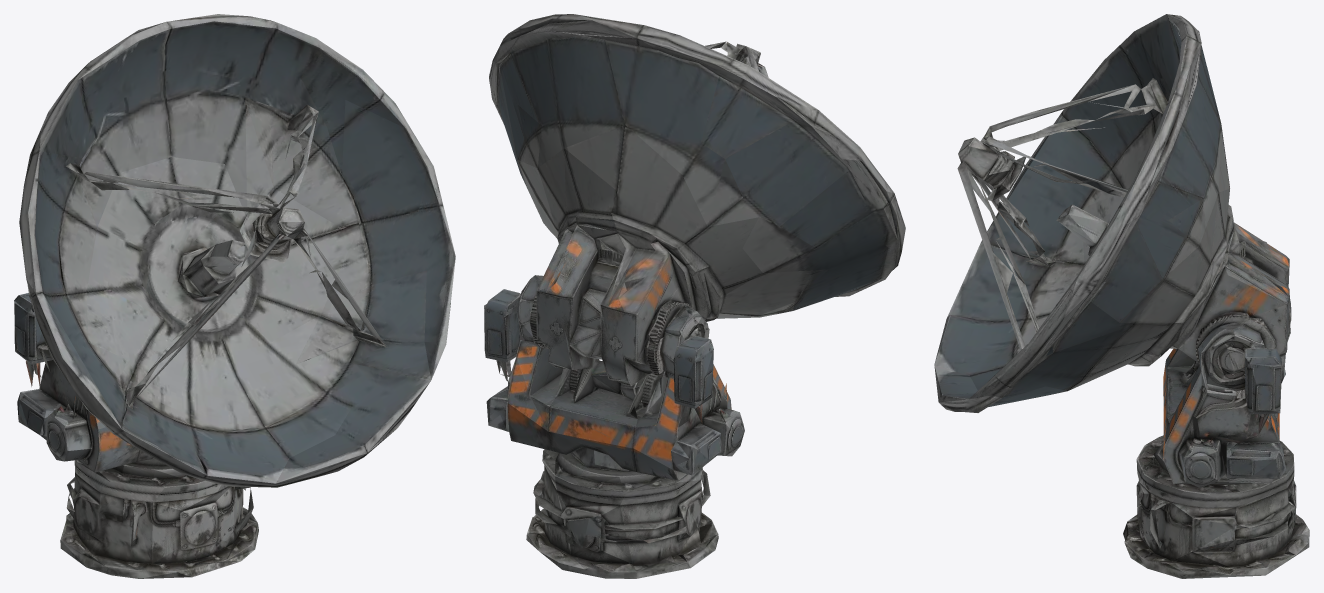
Rendered from dish.glb.
The picture shows the model from 3 angles, left to right: view 1: azimuth 30°, elevation 25°; view 2: azimuth 150°, elevation 25°; view 3: azimuth 270°, elevation 25°; orthographic projection. The views are drawn at different scales.
Parts seen in each view (by area): view 1: Mesh_0; view 2: Mesh_0; view 3: Mesh_0.
Boxes of the visible parts, left/top/right/bottom form: Mesh_0: left=14, top=14, right=455, bottom=578; Mesh_0: left=484, top=14, right=905, bottom=578; Mesh_0: left=934, top=14, right=1309, bottom=578.
Bounding box in the file's own units: 2.43 × 3 × 2.03.
1 material, 1 textured.
